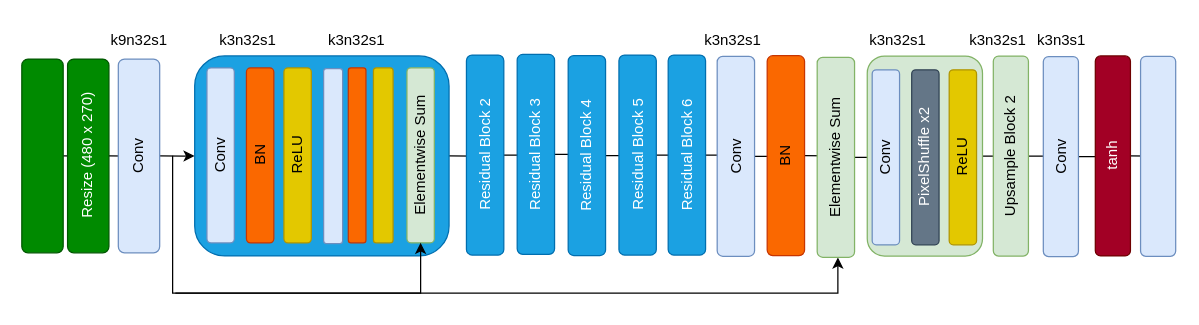
The diagram is 1199 pixels wide and 325 high, and some of its shapes have lost their labels. The shapes that lost their labels are listed below. From the top down, each one's centre as x and y in pixels, then its label:
[42,155]: Input
[1157,155]: Output (1920 x 1080)
